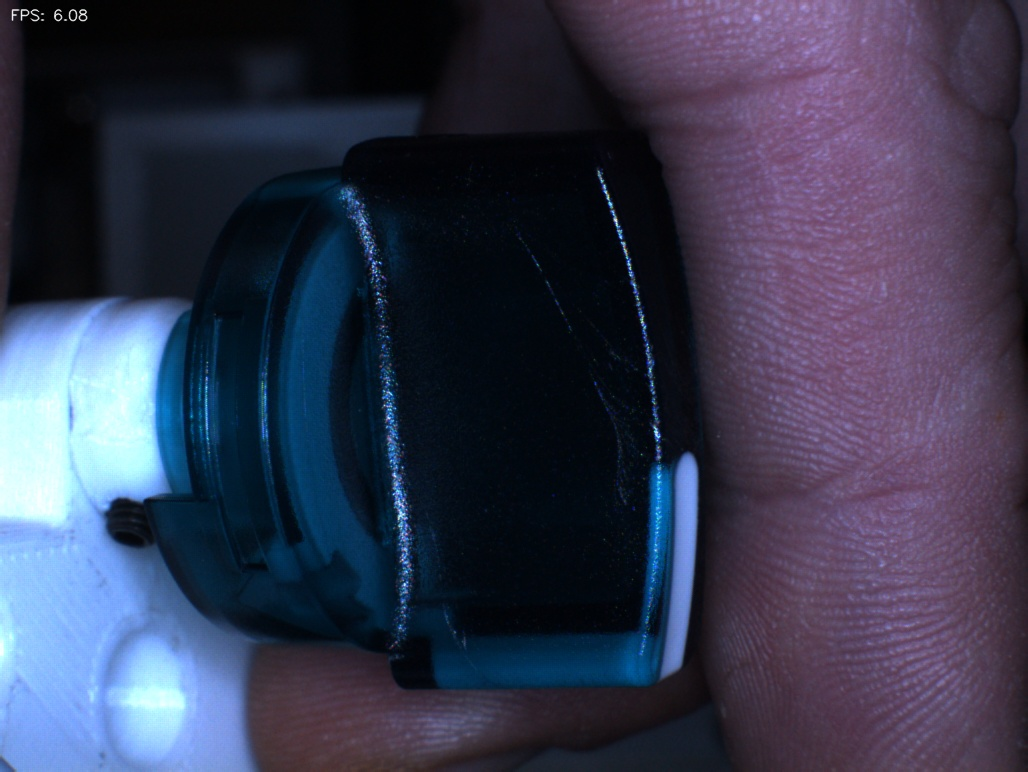Givrage: (521, 246, 655, 501)
